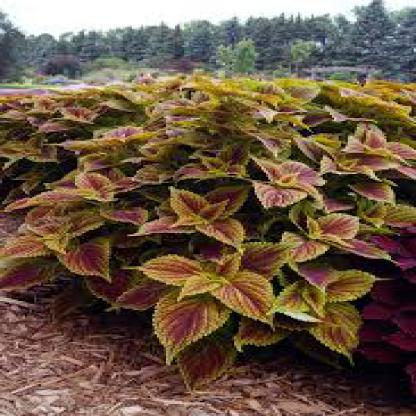Bunga Coleus: (13, 84, 411, 325)
